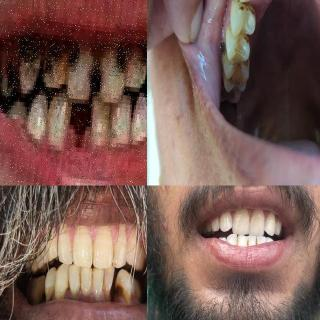calculus: (100, 273, 110, 301), (63, 271, 73, 294), (77, 275, 86, 299), (90, 273, 94, 289)
cavities: (62, 44, 94, 96), (98, 49, 126, 97), (19, 38, 42, 82), (39, 41, 63, 79), (125, 48, 147, 86), (0, 57, 20, 94), (114, 282, 128, 302)
maligned: (231, 206, 250, 237), (250, 208, 264, 238), (226, 232, 238, 246), (238, 233, 248, 249), (248, 232, 256, 250), (258, 233, 266, 249)
stains: (226, 60, 254, 82), (230, 28, 250, 57), (232, 5, 258, 22), (234, 236, 240, 248), (246, 236, 252, 248), (254, 237, 259, 247)
